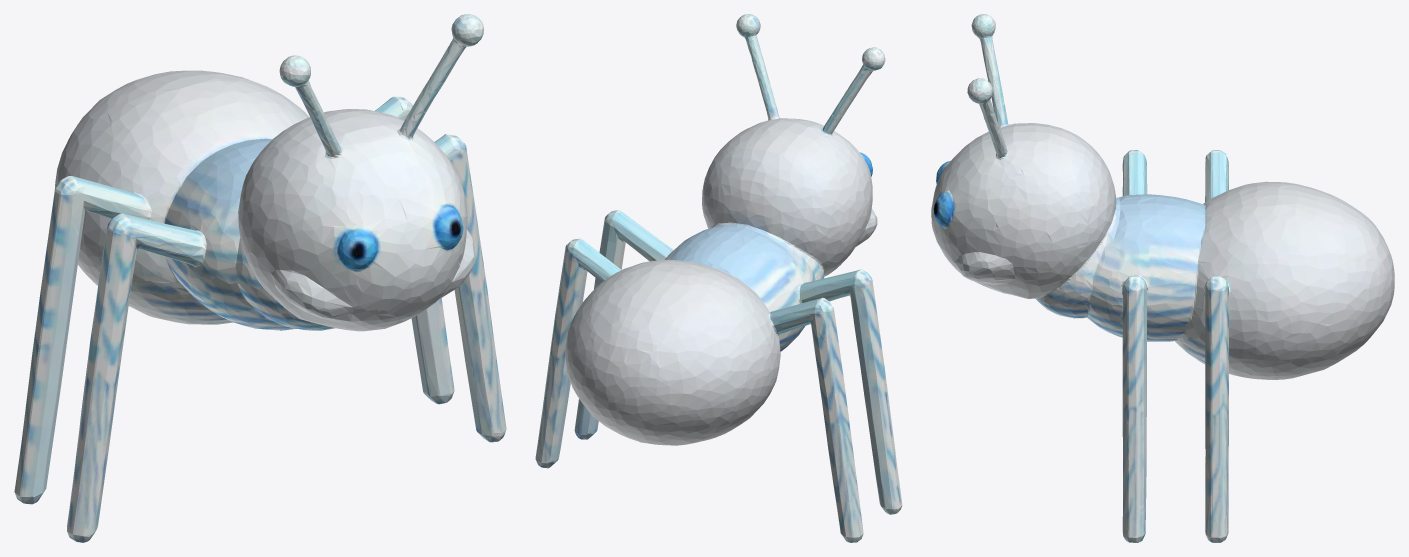
The model's file is creature-032.lod.glb.
The picture shows the model from 3 angles, left to right: view 1: azimuth 30°, elevation 25°; view 2: azimuth 150°, elevation 25°; view 3: azimuth 270°, elevation 25°; orthographic projection. The views are drawn at different scales.
Visible parts, largest first — view 1: tmp1zs6atmi.ply; view 2: tmp1zs6atmi.ply; view 3: tmp1zs6atmi.ply.
Boxes of the visible parts, box(x1,y1,x2,y2) form: tmp1zs6atmi.ply: box(14, 14, 506, 542); tmp1zs6atmi.ply: box(535, 14, 902, 542); tmp1zs6atmi.ply: box(931, 14, 1394, 542).
Bounding box in the file's own units: 1.71 × 1.97 × 1.99.
Materials: 1 (1 with a texture image).
